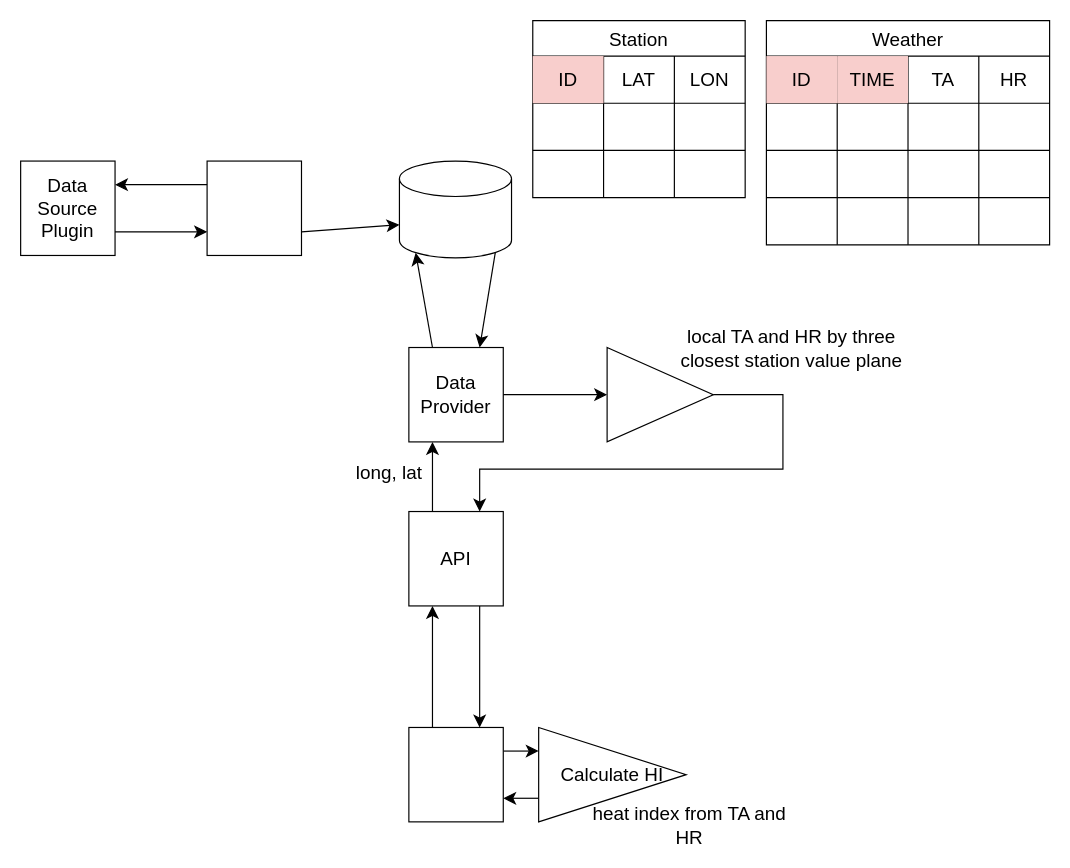
This 1070x868 diagram has some shape labels left out. The shapes that lost their labels are listed below. From the top down, each one's centre as x and y in pixels, then its label:
At point 253,207: "Scheduled Data Fetcher".
At point 659,394: "Calculator".
At point 455,774: "App".
